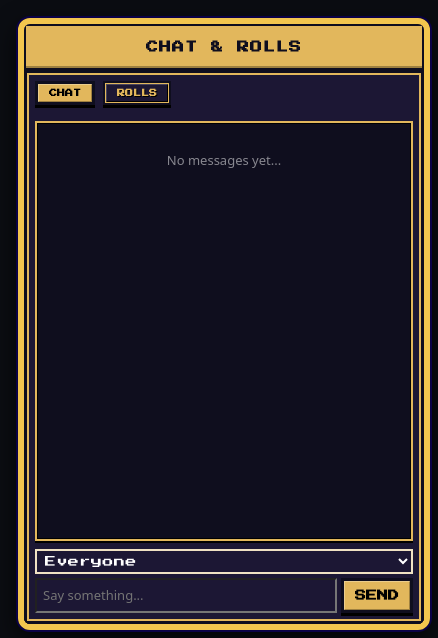
RollLog tab strip › switches to chat and back
Click the tab "CHAT".
click(65, 93)  # box [35,81,95,105]
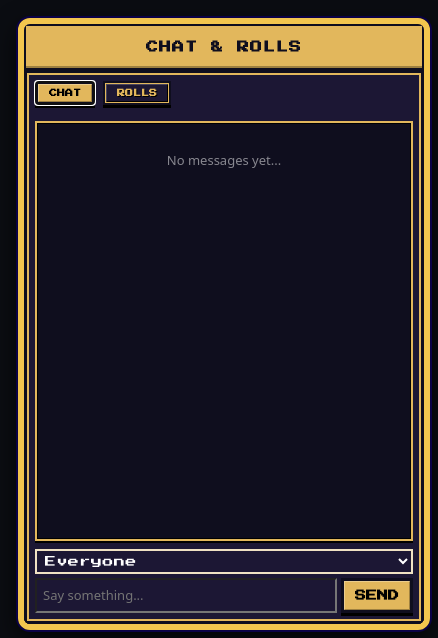
Check: the field named "Chat message" is shown, box [35,578,337,613]
Check: the text "No rolls yet" is not shown
Click the tab "ROLLS".
click(137, 93)  # box [103,81,171,105]
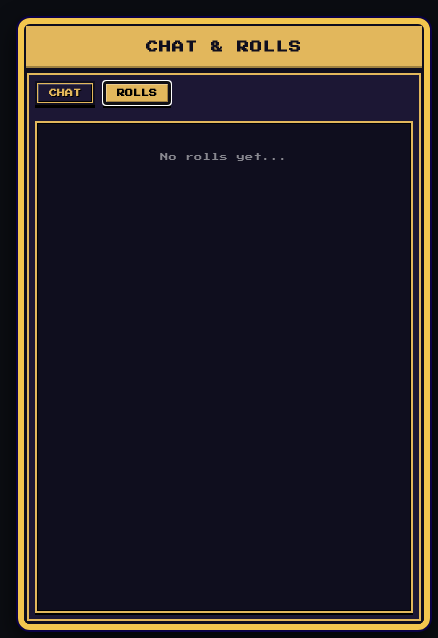
Check: the text "No rolls yet..." is shown, box [160,153,288,161]
